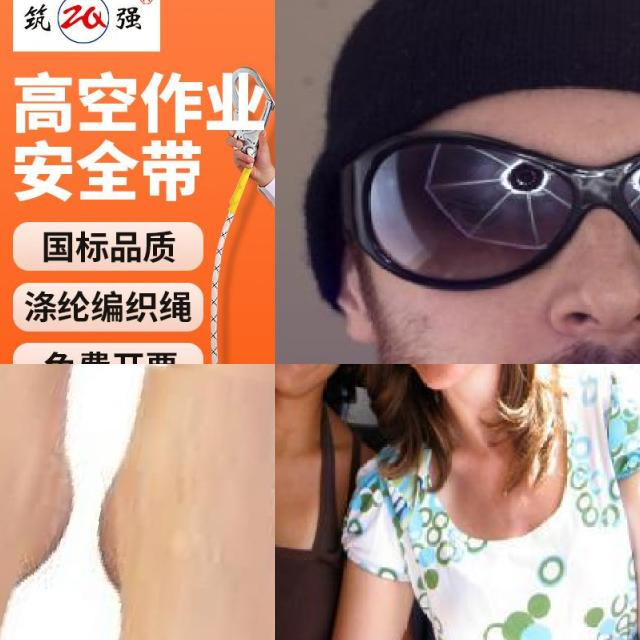Barefoots: (87, 389, 275, 640)
face_nomask: (401, 122, 640, 364)
glasses: (307, 122, 640, 304)
person: (343, 364, 640, 640), (275, 364, 358, 640)
